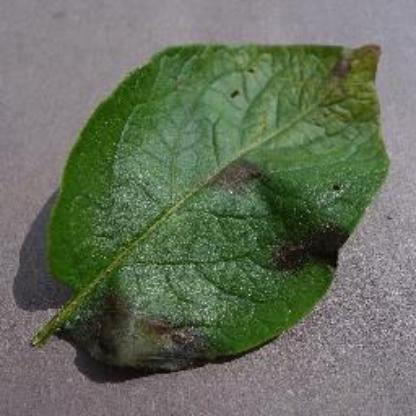Late-Blight: (30, 43, 392, 380)
